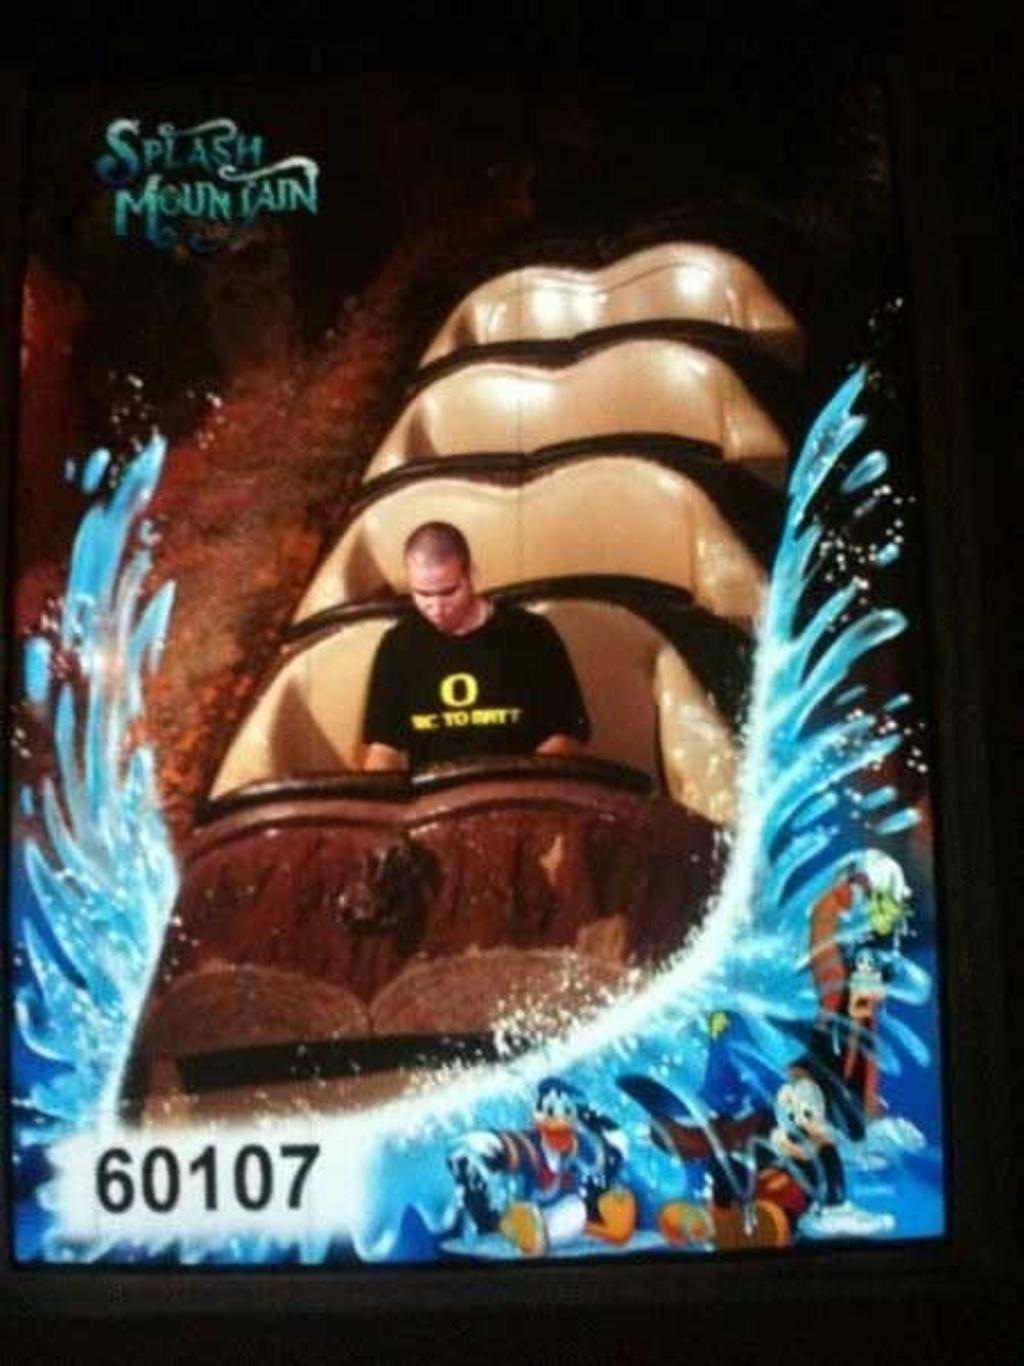face: (395, 539, 475, 635)
